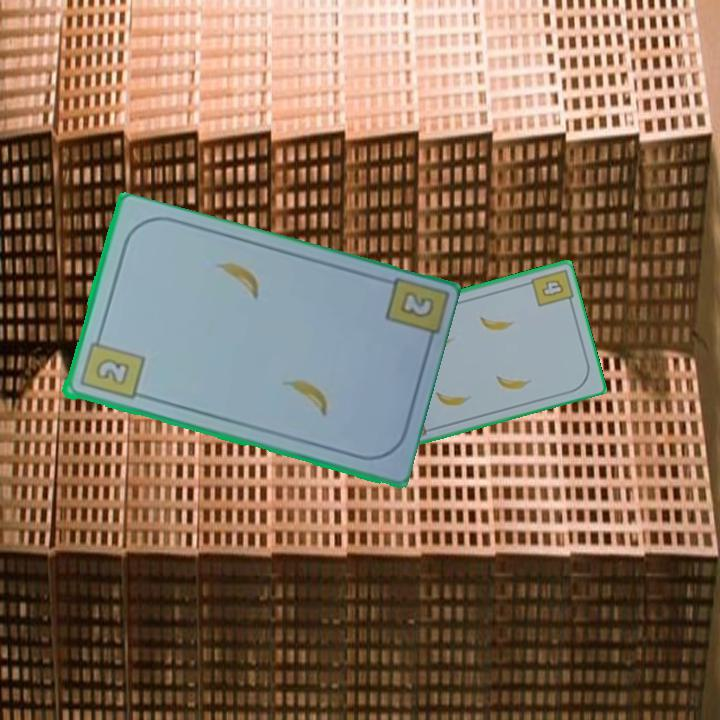2b: (76, 330, 147, 403), (396, 287, 437, 321)
4b: (538, 276, 567, 299)
